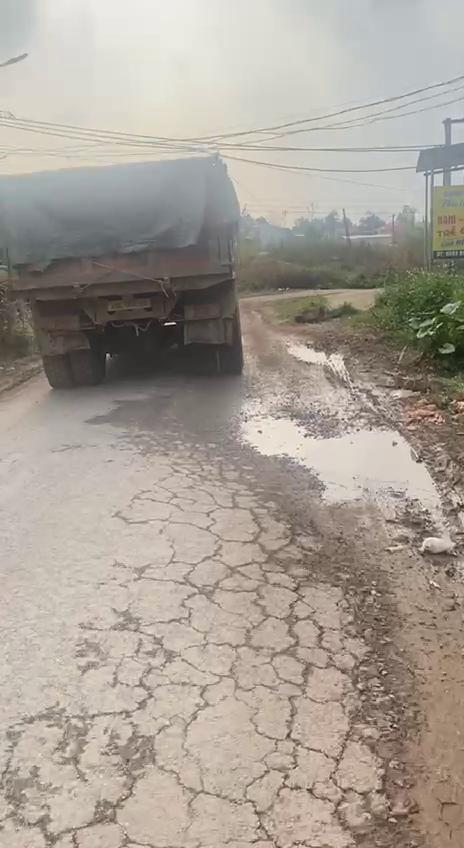pothole: (238, 404, 434, 504)
